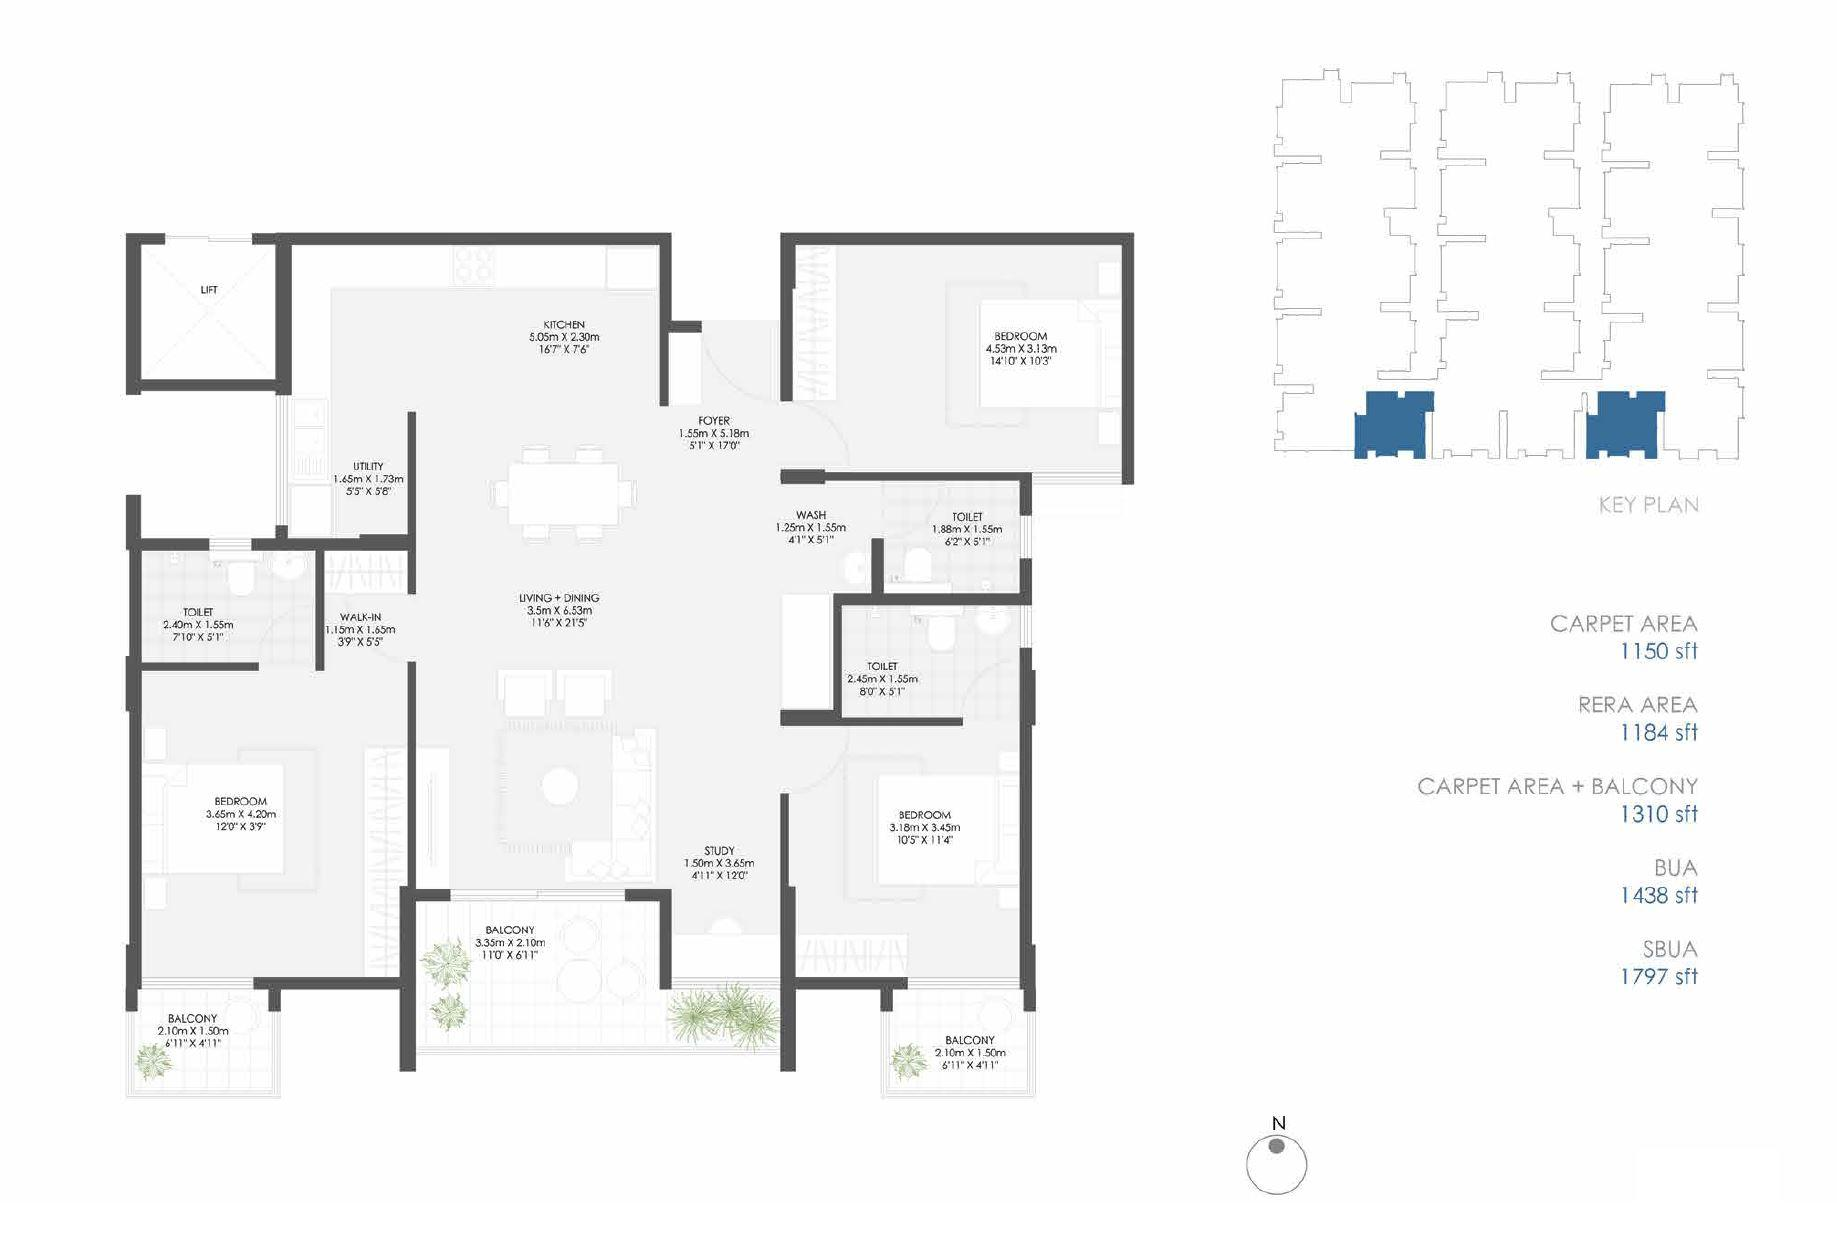Balcony: (421, 901, 659, 1040), (132, 988, 272, 1089), (886, 991, 1027, 1086), (665, 981, 780, 1046)
Bed: (140, 765, 288, 878), (978, 299, 1120, 406), (877, 778, 1013, 885)
Bedroom: (138, 667, 407, 978), (788, 244, 1124, 473), (788, 721, 1017, 978)
Dining Room: (417, 403, 674, 585)
Dining table: (484, 433, 648, 546)
Foyer: (673, 323, 780, 615)
Kitchen: (289, 245, 658, 403)
Living Room: (416, 586, 662, 894)
Sofa: (605, 729, 655, 878), (560, 839, 654, 882), (557, 670, 611, 728), (497, 667, 553, 720)
Wardrobe: (359, 744, 405, 976), (790, 242, 841, 403), (788, 932, 908, 976), (322, 550, 403, 592)
commode: (922, 616, 963, 654), (905, 546, 932, 581), (230, 560, 250, 599)
door: (700, 322, 780, 406), (444, 882, 627, 911), (782, 403, 852, 473), (350, 593, 413, 670), (784, 722, 853, 793), (952, 661, 1025, 727), (256, 605, 322, 673), (874, 478, 944, 541), (900, 969, 1024, 998), (138, 974, 255, 998)
fridge: (610, 244, 659, 292)
kitchen-slab: (289, 245, 610, 286), (289, 246, 326, 484)
sink: (289, 429, 330, 484), (976, 607, 1011, 643), (272, 548, 307, 582), (844, 553, 870, 586)
stove: (453, 244, 497, 285)
study: (665, 626, 780, 980)
toilet: (839, 603, 1022, 718), (138, 549, 318, 661), (877, 482, 1022, 596)
tv: (424, 762, 443, 877)
utility: (281, 405, 410, 537)
walkin: (323, 553, 413, 662)
wash: (776, 480, 871, 593)
washing-machine: (290, 484, 336, 538)
